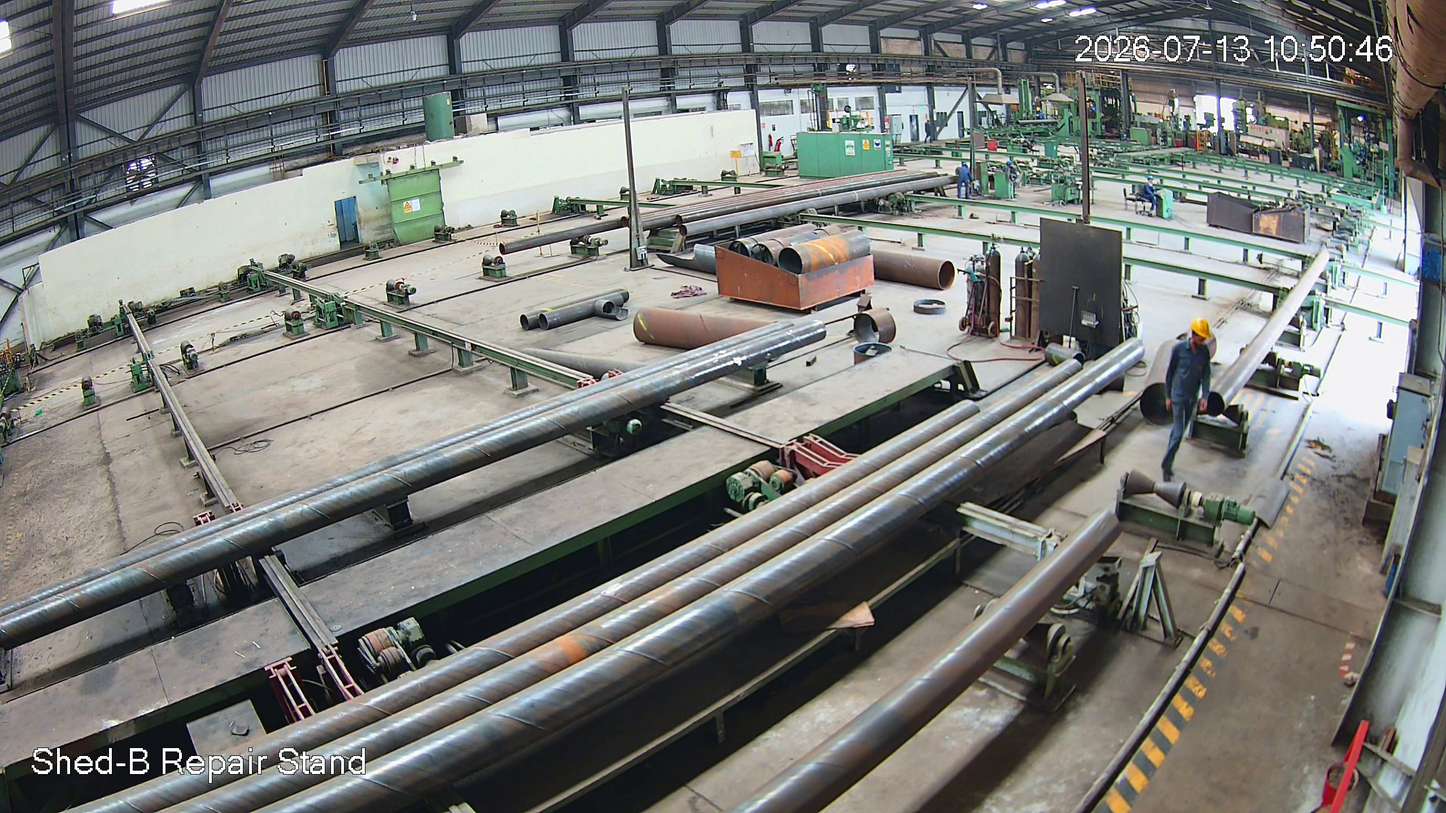Helmet: (1187, 317, 1211, 353)
Person: (1155, 321, 1221, 482)
